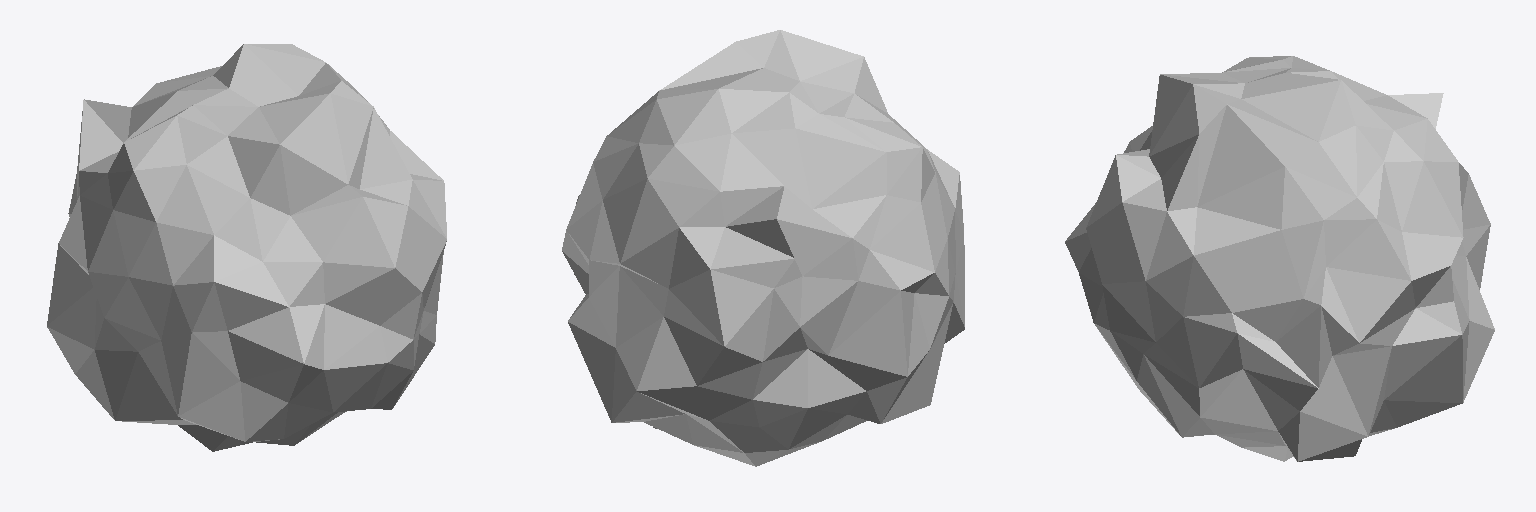
File: fire_000011.obj
3 renders of one model, left to right at view 1: azimuth 30°, elevation 25°; view 2: azimuth 150°, elevation 25°; view 3: azimuth 270°, elevation 25°, orthographic.
Parts seen in each view (by area): view 1: Icosphere; view 2: Icosphere; view 3: Icosphere.
Part boxes in pixels (left/top/right/bottom): Icosphere: left=47, top=44, right=446, bottom=451; Icosphere: left=562, top=30, right=964, bottom=466; Icosphere: left=1065, top=56, right=1494, bottom=461.
Bounding box in the file's own units: 1.53 × 1.56 × 1.63.